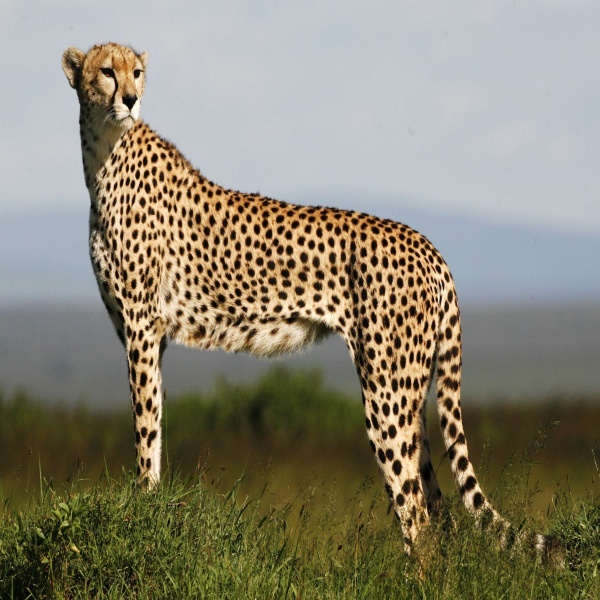Cheetah: (58, 40, 568, 568)
